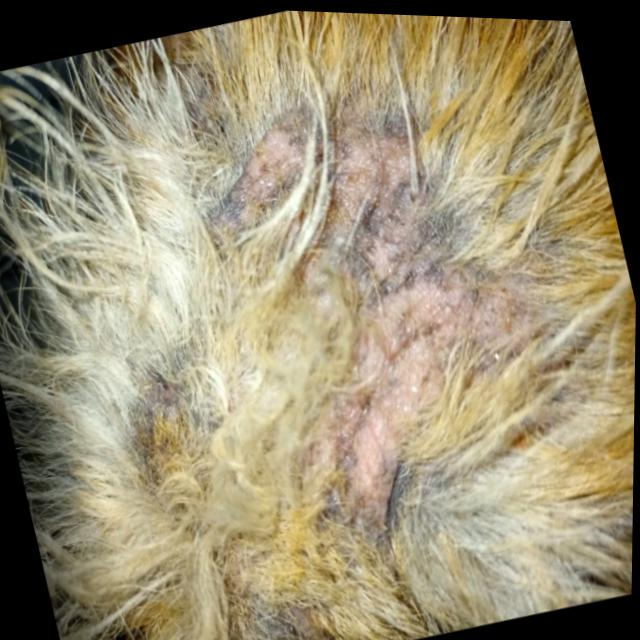demodicosis: (220, 67, 546, 503)
